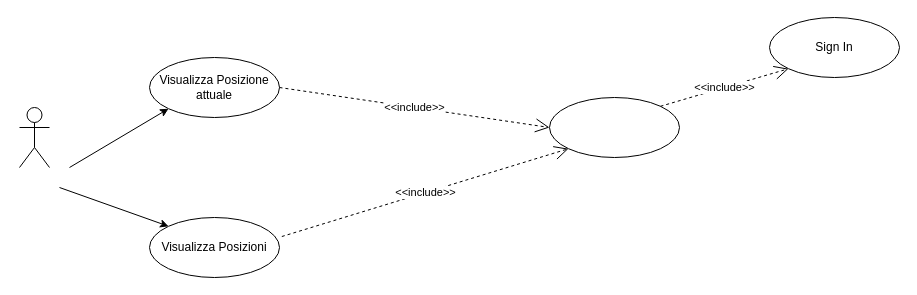
Some shapes in this 917 by 295 pixel diagram are drawn without their labels. Each missing label, with the centre of its shape:
"Login" belongs at (614,127).
"Utente" belongs at (34,137).
